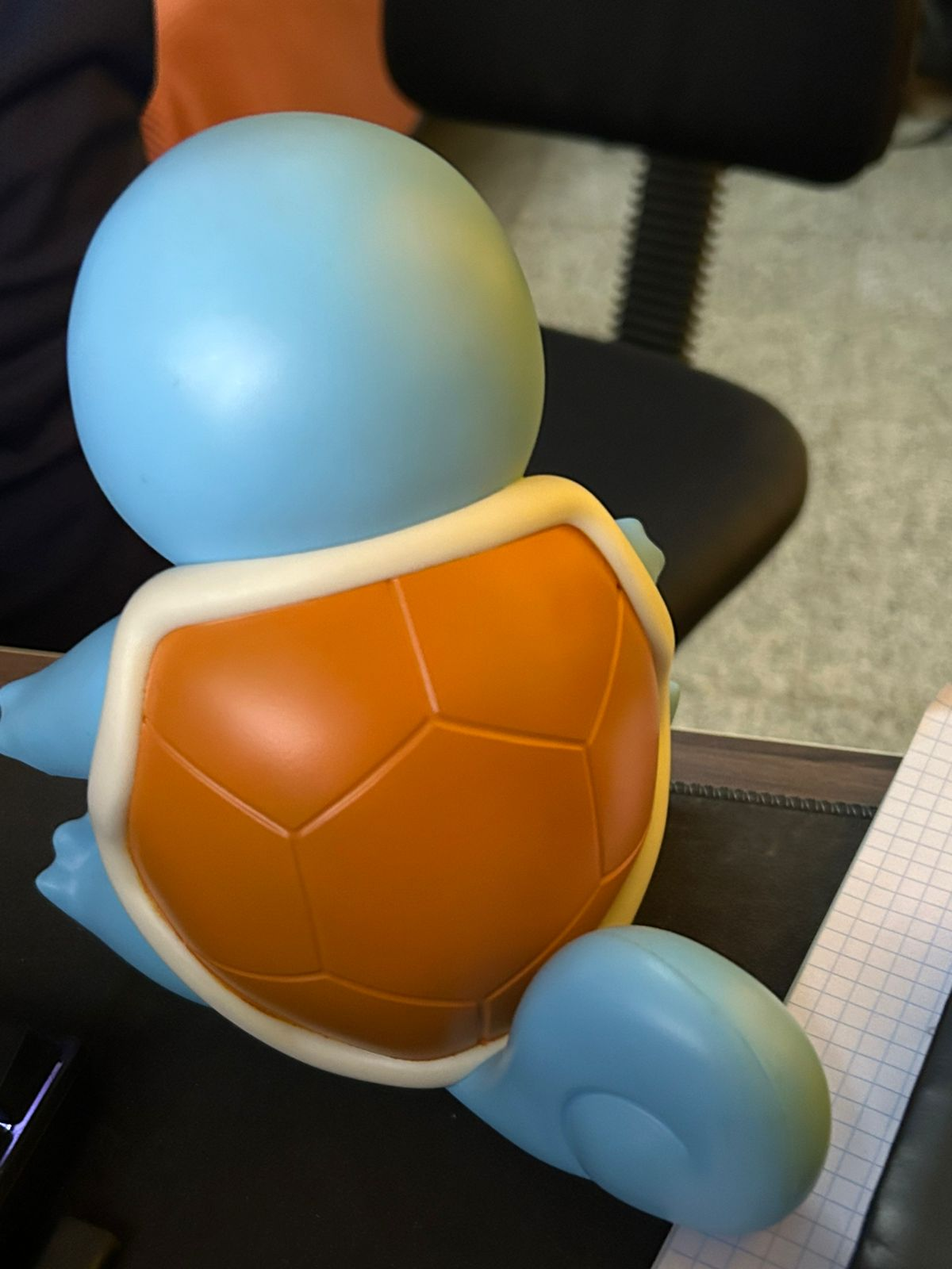Squirtle: (0, 115, 827, 1231)
